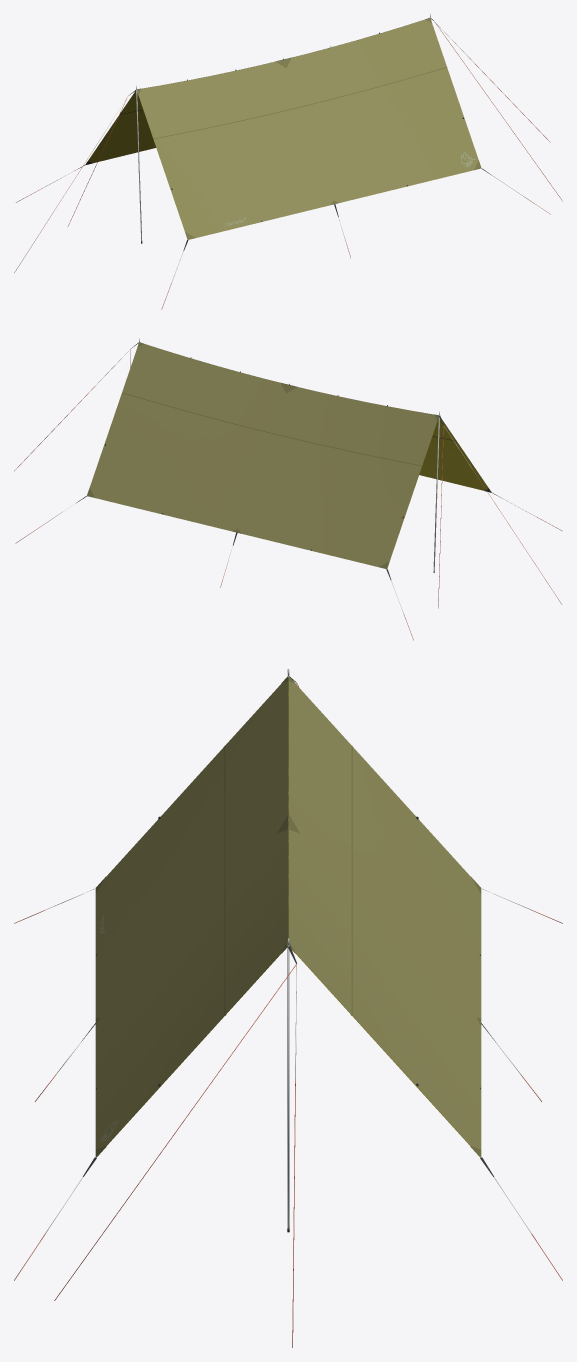
The model's file is nordisk-voss-20.glb.
3 renders of one model, top to bottom at view 1: azimuth 30°, elevation 25°; view 2: azimuth 150°, elevation 25°; view 3: azimuth 270°, elevation 25°, orthographic. The views are drawn at different scales.
Visible parts, largest first — view 1: nordisk-voss-20-top, nordisk-voss-20-under, nordisk-voss-20-rope_hi, nordisk-voss-20-seam_top; view 2: nordisk-voss-20-top, nordisk-voss-20-under, nordisk-voss-20-rope_hi, nordisk-voss-20-seam_top; view 3: nordisk-voss-20-top, nordisk-voss-20-rope_hi, nordisk-voss-20-seam_top, nordisk-voss-20-pole, nordisk-voss-20-under.
Part boxes in pixels (<box>): nordisk-voss-20-top: <box>85,19,478,237</box>; nordisk-voss-20-under: <box>88,92,185,234</box>; nordisk-voss-20-rope_hi: <box>14,21,562,309</box>; nordisk-voss-20-seam_top: <box>153,67,478,237</box>; nordisk-voss-20-top: <box>89,344,490,567</box>; nordisk-voss-20-under: <box>388,418,491,564</box>; nordisk-voss-20-rope_hi: <box>14,349,562,640</box>; nordisk-voss-20-seam_top: <box>90,392,421,566</box>; nordisk-voss-20-top: <box>95,676,481,1156</box>; nordisk-voss-20-rope_hi: <box>14,683,562,1347</box>; nordisk-voss-20-seam_top: <box>96,745,480,1150</box>; nordisk-voss-20-pole: <box>287,676,289,1228</box>; nordisk-voss-20-under: <box>96,677,480,1156</box>.
Size of the model in its own units: 8.4 by 2.38 by 3.96.
